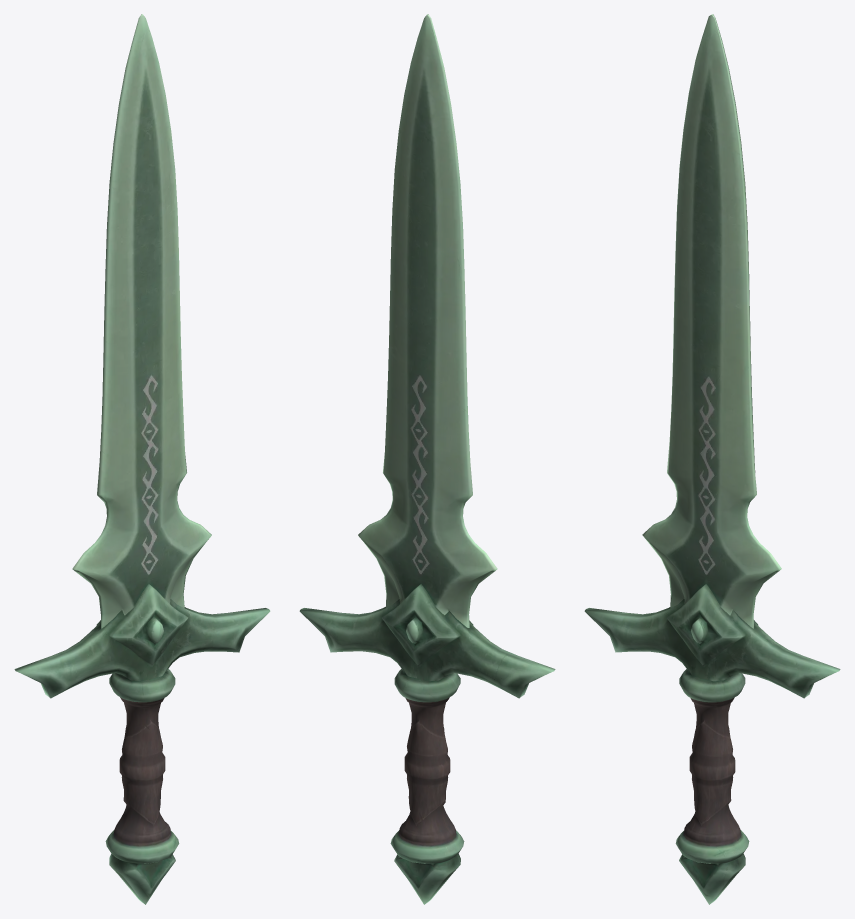
The picture shows the model from 3 angles, left to right: view 1: azimuth 30°, elevation 25°; view 2: azimuth 150°, elevation 25°; view 3: azimuth 330°, elevation 25°; orthographic projection.
Visible parts, largest first — view 1: SM_Sword_Adamant_1H_01_LOD0; view 2: SM_Sword_Adamant_1H_01_LOD0; view 3: SM_Sword_Adamant_1H_01_LOD0.
Boxes of the visible parts, <box> form: SM_Sword_Adamant_1H_01_LOD0: <box>14,14,270,904</box>; SM_Sword_Adamant_1H_01_LOD0: <box>299,14,555,904</box>; SM_Sword_Adamant_1H_01_LOD0: <box>584,14,840,904</box>.
Bounding box in the file's own units: 0.3527 × 1.18 × 0.0878.
Materials: 1 (1 with a texture image).
